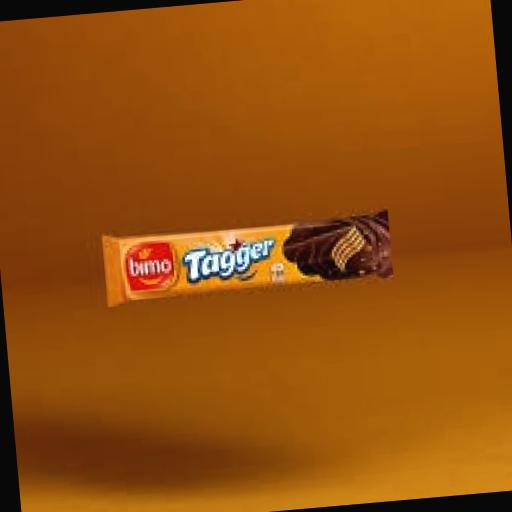tagger: (70, 145, 458, 448)
